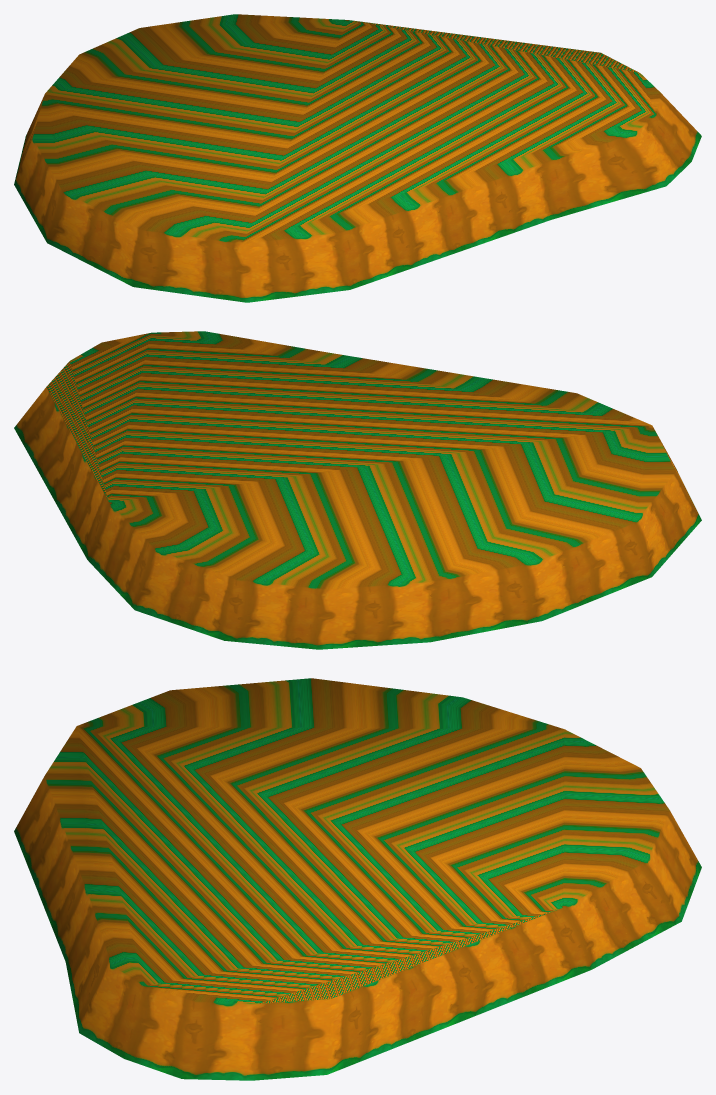
The model's file is Hill01_h01_col.FBX.
3 renders of one model, top to bottom at view 1: azimuth 30°, elevation 25°; view 2: azimuth 150°, elevation 25°; view 3: azimuth 270°, elevation 25°, orthographic. The views are drawn at different scales.
Visible parts, largest first — view 1: Hill01_h01_col; view 2: Hill01_h01_col; view 3: Hill01_h01_col.
Boxes of the visible parts, bbox=[...] form: Hill01_h01_col: bbox=[14, 14, 701, 302]; Hill01_h01_col: bbox=[14, 331, 701, 649]; Hill01_h01_col: bbox=[14, 678, 701, 1080].
Bounding box in the file's own units: 2010 × 151 × 1647.
Materials: 1 (1 with a texture image).
